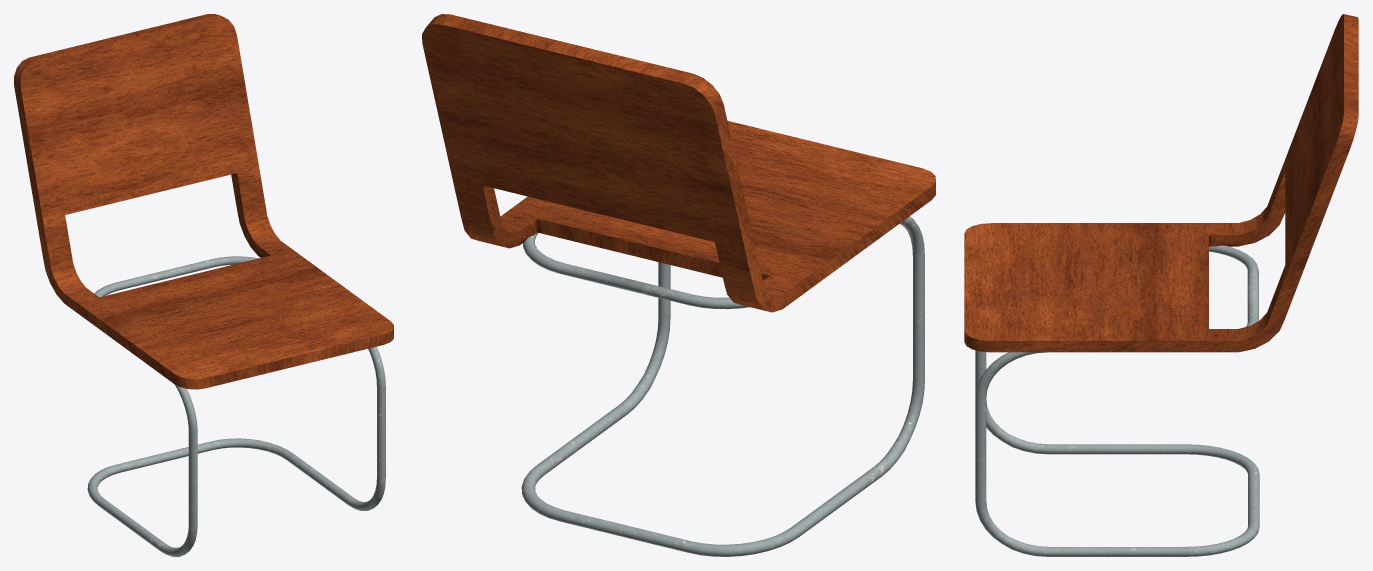
Rendered from Modern_Chair.glb.
3 views of the same model, side by side, from view 1: azimuth 30°, elevation 25°; view 2: azimuth 150°, elevation 25°; view 3: azimuth 270°, elevation 25° (orthographic). The views are drawn at different scales.
Parts seen in each view (by area): view 1: Chair, Leg; view 2: Chair, Leg; view 3: Chair, Leg.
Boxes of the visible parts, left/top/right/bottom form: Chair: left=14, top=14, right=393, bottom=389; Leg: left=87, top=256, right=385, bottom=556; Chair: left=422, top=14, right=935, bottom=312; Leg: left=521, top=216, right=924, bottom=556; Chair: left=964, top=14, right=1358, bottom=352; Leg: left=975, top=245, right=1259, bottom=556.
Bounding box in the file's own units: 0.5405 × 0.9408 × 0.7632.
Materials: 2 (2 with a texture image).
